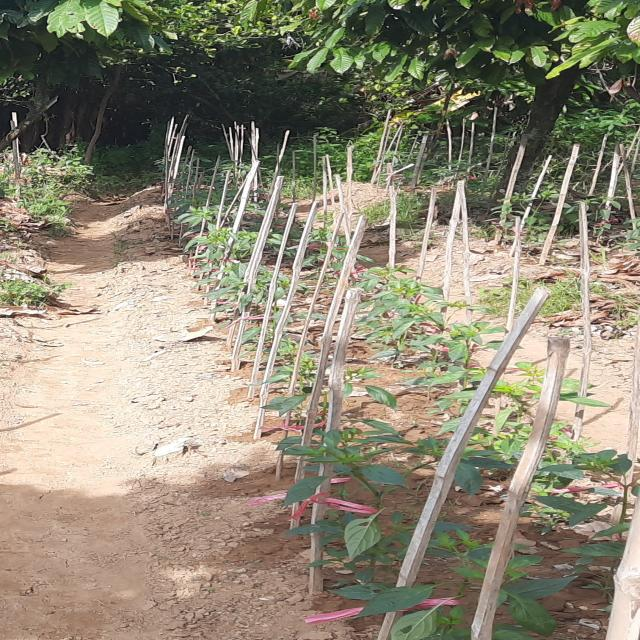sehat: (352, 585, 443, 614), (273, 473, 329, 503), (516, 576, 576, 600), (363, 465, 412, 486)
